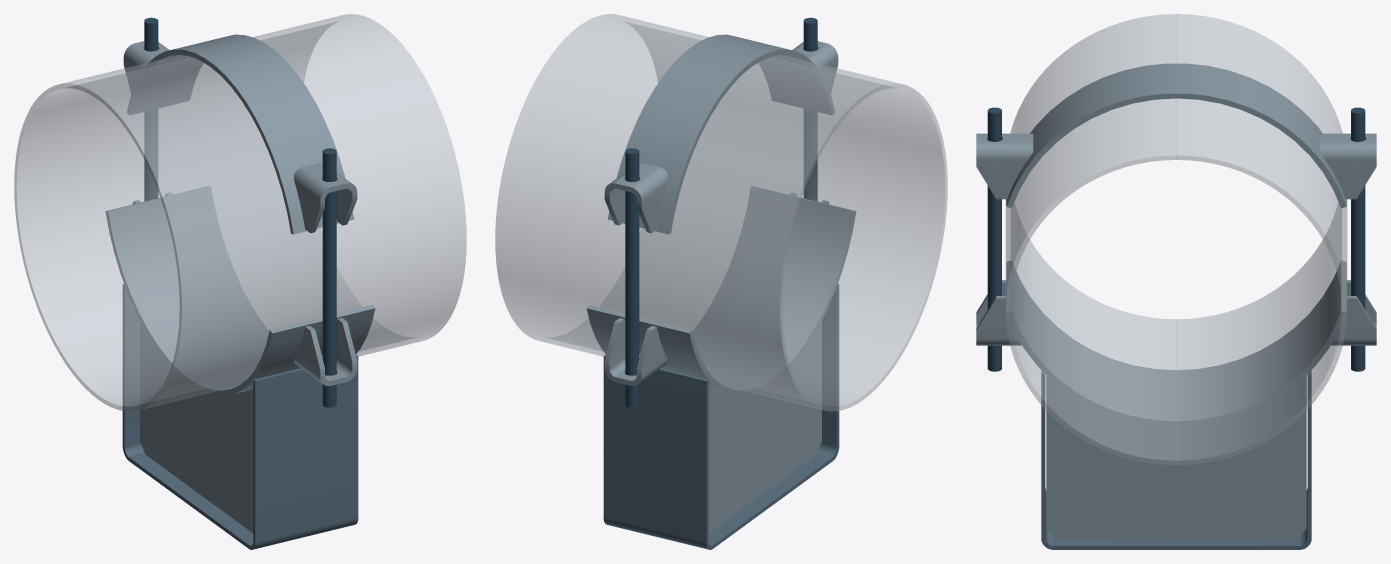
The model's file is TS-627.00.000-008-opora-dn480-H200-L170.glb.
3 views of the same model, side by side, from view 1: azimuth 30°, elevation 25°; view 2: azimuth 150°, elevation 25°; view 3: azimuth 270°, elevation 25° (orthographic).
Visible parts, largest first — view 1: truba, podushka_3, skoba_0, bugel0_podushka_0, rebro4_1, shpilka_0_-1, bugel0_ushko_2, ushko_5, shpilka_0_1, bugel0_ushko_1; view 2: truba, podushka_3, skoba_0, bugel0_podushka_0, rebro4_1, shpilka_0_1, bugel0_ushko_1, ushko_4, shpilka_0_-1, bugel0_ushko_2; view 3: truba, rebro4_2, podushka_3, bugel0_podushka_0, skoba_0, bugel0_ushko_1, bugel0_ushko_2, shpilka_0_1, shpilka_0_-1, ushko_4, ushko_5.
Part boxes in pixels (x1,y1,x2,y2): truba: [14, 14, 466, 411]; podushka_3: [105, 186, 375, 395]; skoba_0: [122, 284, 358, 549]; bugel0_podushka_0: [127, 34, 354, 234]; rebro4_1: [140, 321, 253, 532]; shpilka_0_-1: [322, 148, 336, 407]; bugel0_ushko_2: [294, 162, 357, 233]; ushko_5: [294, 318, 357, 386]; shpilka_0_1: [144, 17, 158, 201]; bugel0_ushko_1: [123, 41, 169, 93]; truba: [495, 14, 947, 411]; podushka_3: [586, 186, 856, 395]; skoba_0: [603, 284, 839, 549]; bugel0_podushka_0: [607, 34, 834, 234]; rebro4_1: [708, 321, 821, 532]; shpilka_0_1: [625, 148, 639, 407]; bugel0_ushko_1: [604, 162, 667, 233]; ushko_4: [604, 318, 667, 386]; shpilka_0_-1: [803, 17, 817, 201]; bugel0_ushko_2: [792, 41, 838, 93]; truba: [1005, 14, 1347, 465]; rebro4_2: [1046, 375, 1306, 538]; podushka_3: [1006, 260, 1346, 426]; bugel0_podushka_0: [1006, 63, 1346, 208]; skoba_0: [1041, 370, 1311, 549]; bugel0_ushko_1: [1319, 133, 1376, 199]; bugel0_ushko_2: [976, 133, 1033, 199]; shpilka_0_1: [1351, 107, 1365, 371]; shpilka_0_-1: [987, 107, 1001, 371]; ushko_4: [1331, 280, 1376, 345]; ushko_5: [976, 280, 1021, 345].
Bounding box in the file's own units: 470 × 691 × 562.
